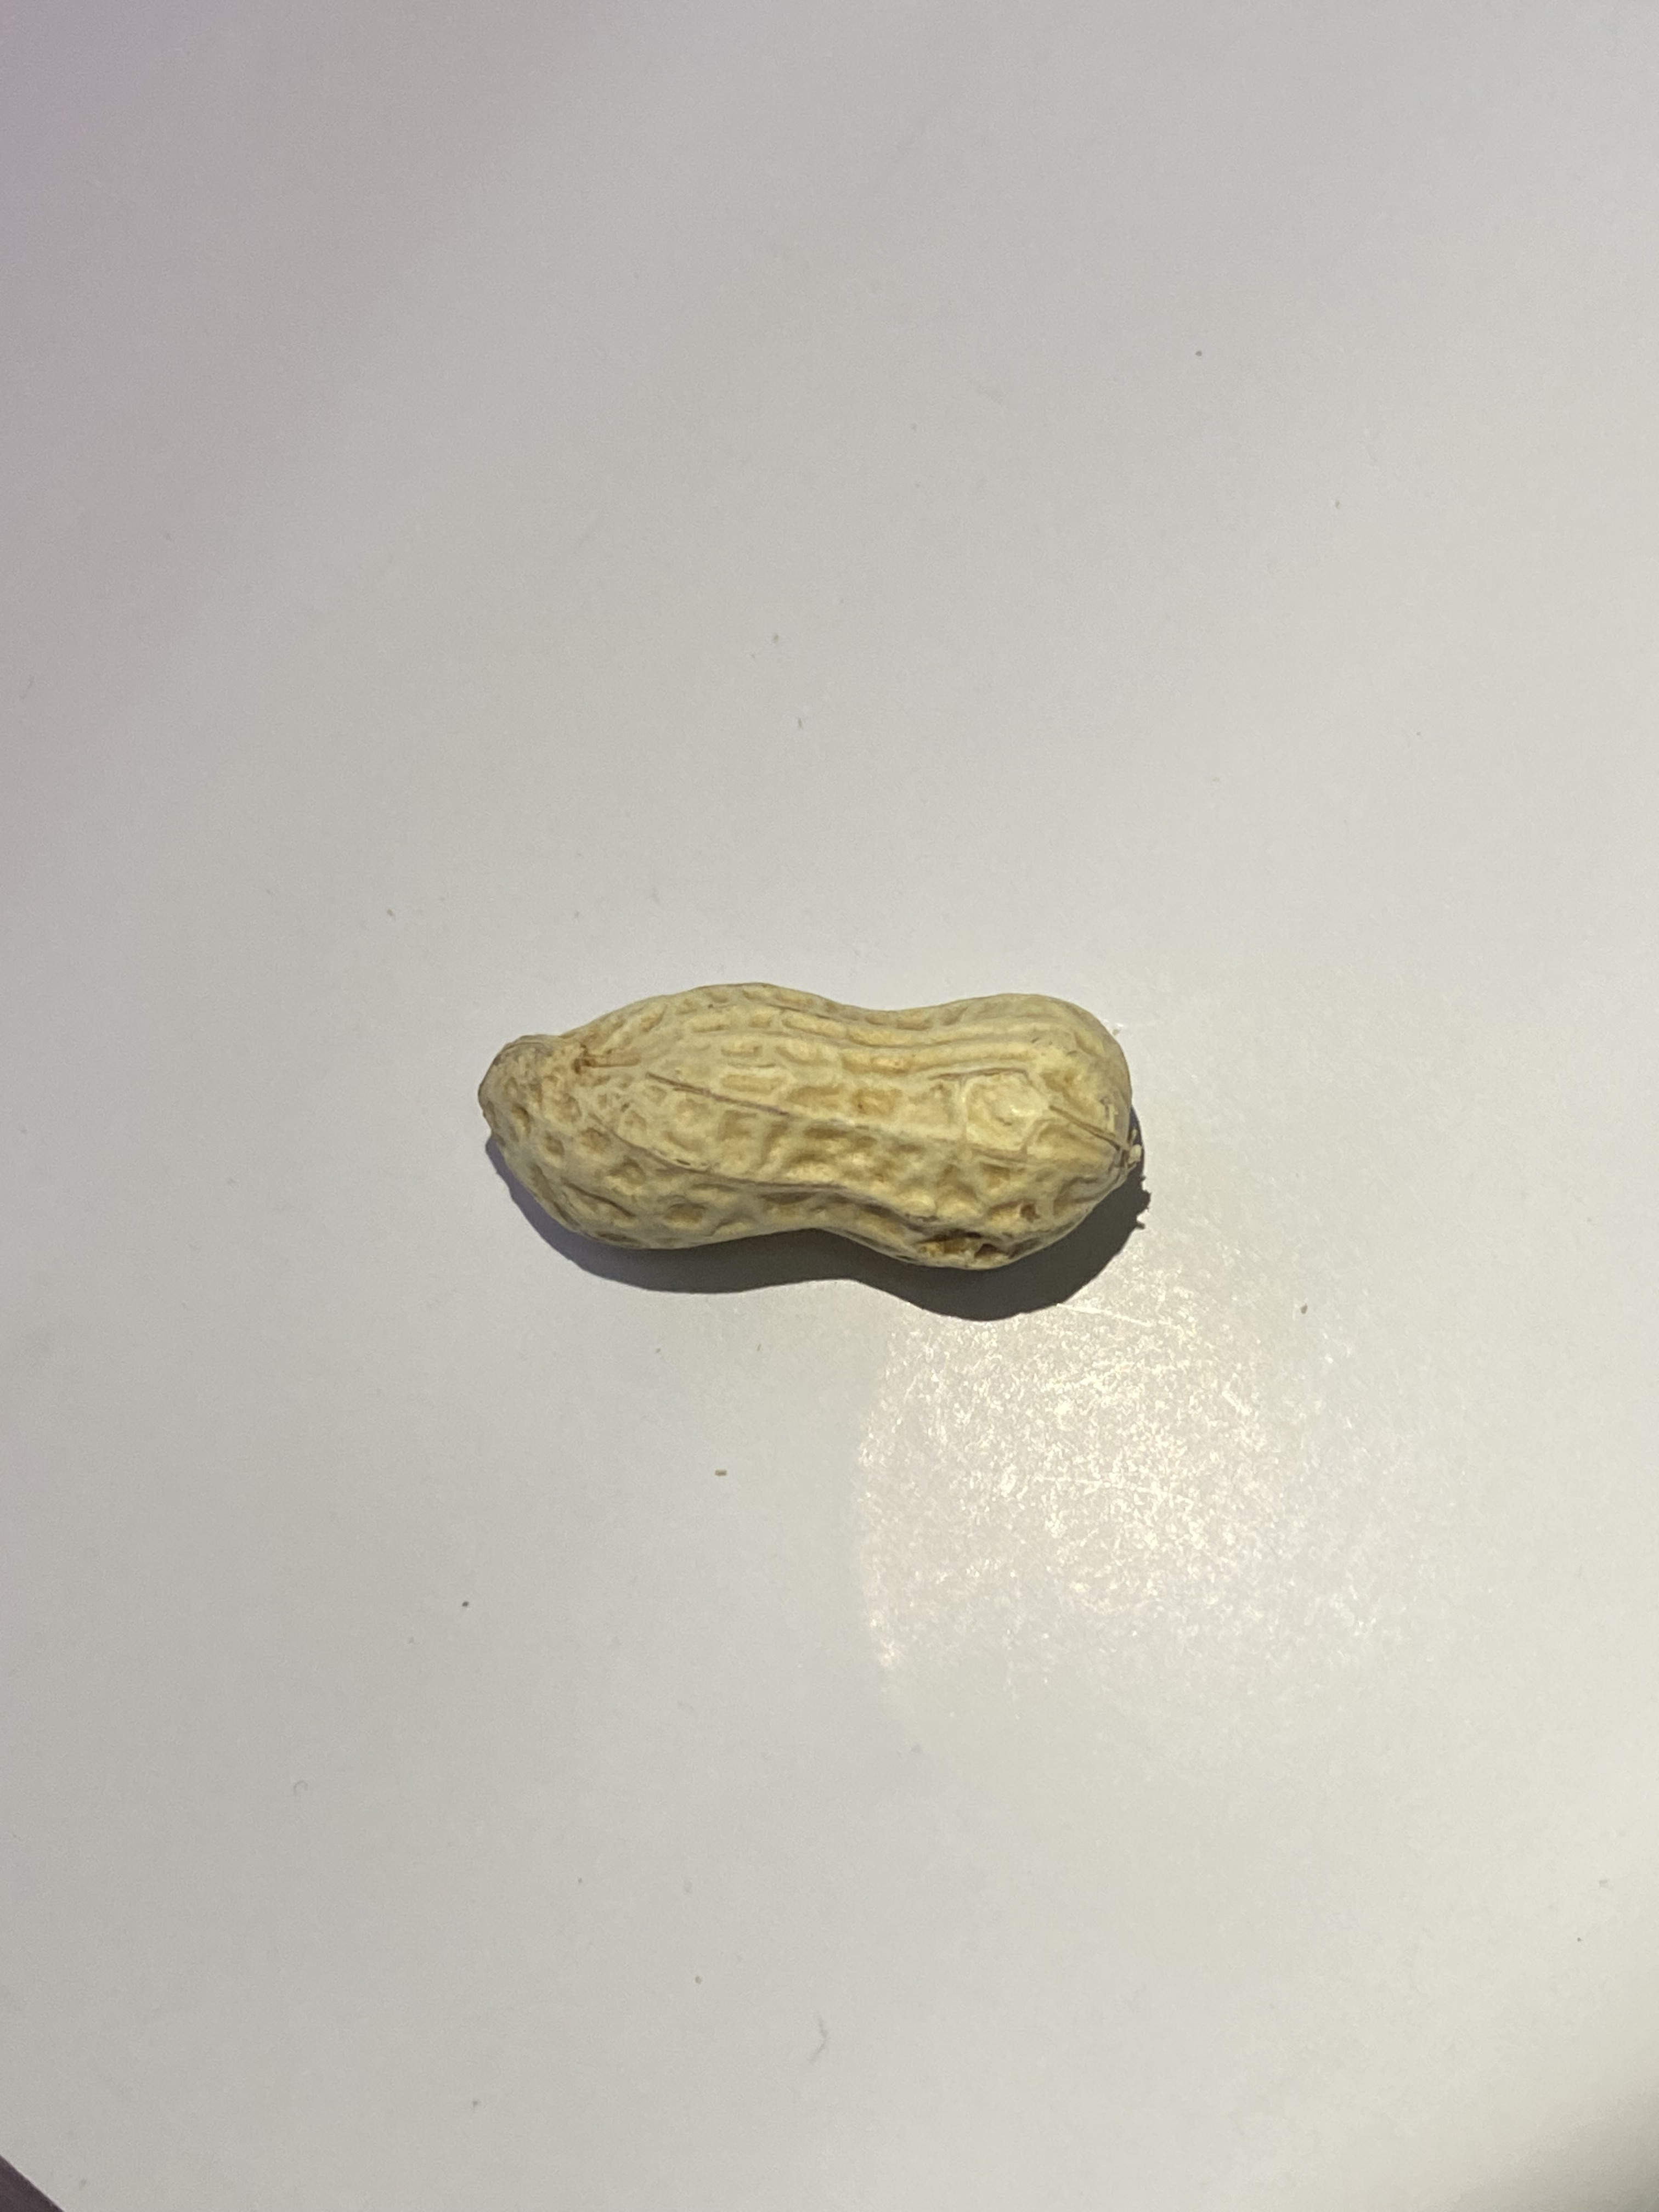kacang2: (448, 968, 1222, 1305)
